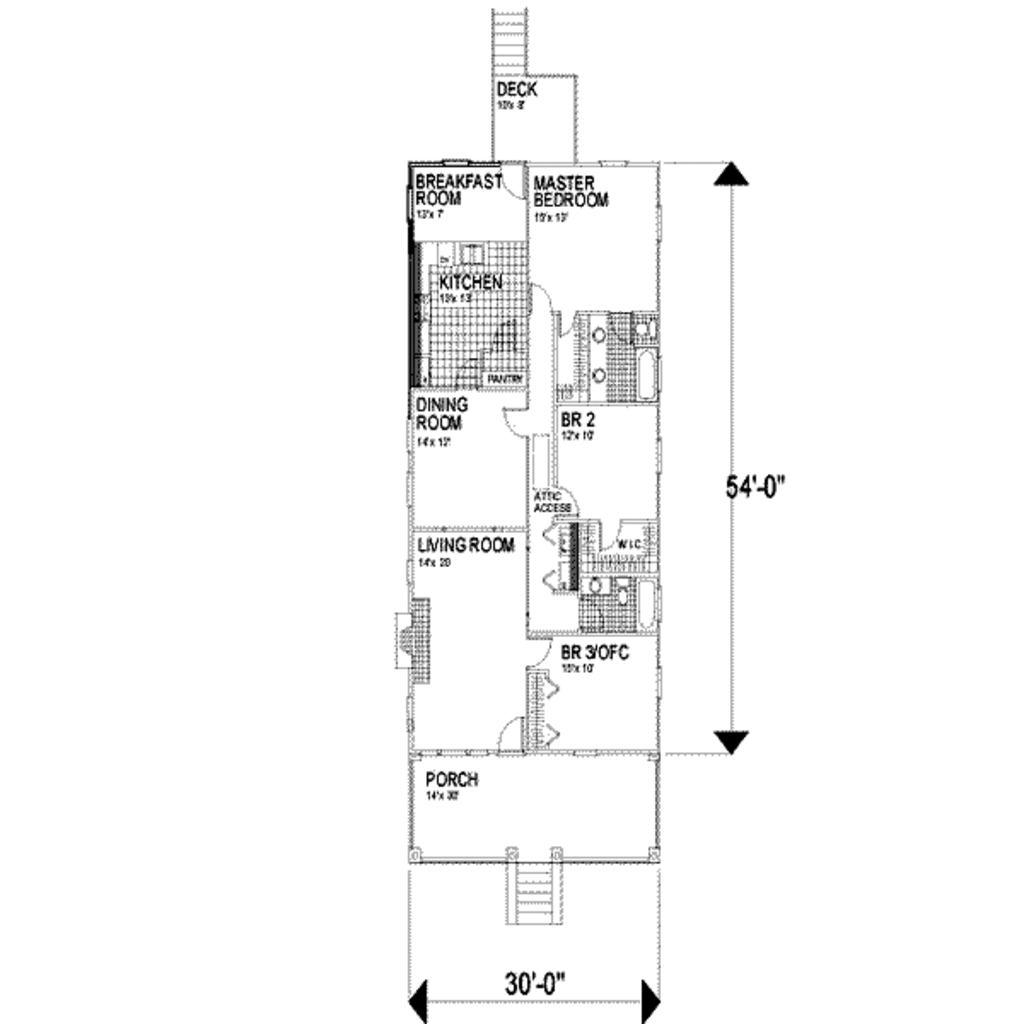door: (516, 631, 562, 672), (496, 159, 537, 203), (493, 396, 533, 439), (591, 516, 627, 556), (496, 716, 529, 756), (524, 279, 555, 318), (547, 482, 578, 518), (552, 305, 573, 339)
large_sink: (634, 311, 666, 342), (607, 577, 634, 603)
small_sink: (584, 316, 609, 399), (582, 575, 605, 592)
stairs: (501, 839, 585, 953), (478, 3, 542, 76)
tub: (635, 574, 659, 635), (636, 344, 661, 400)
